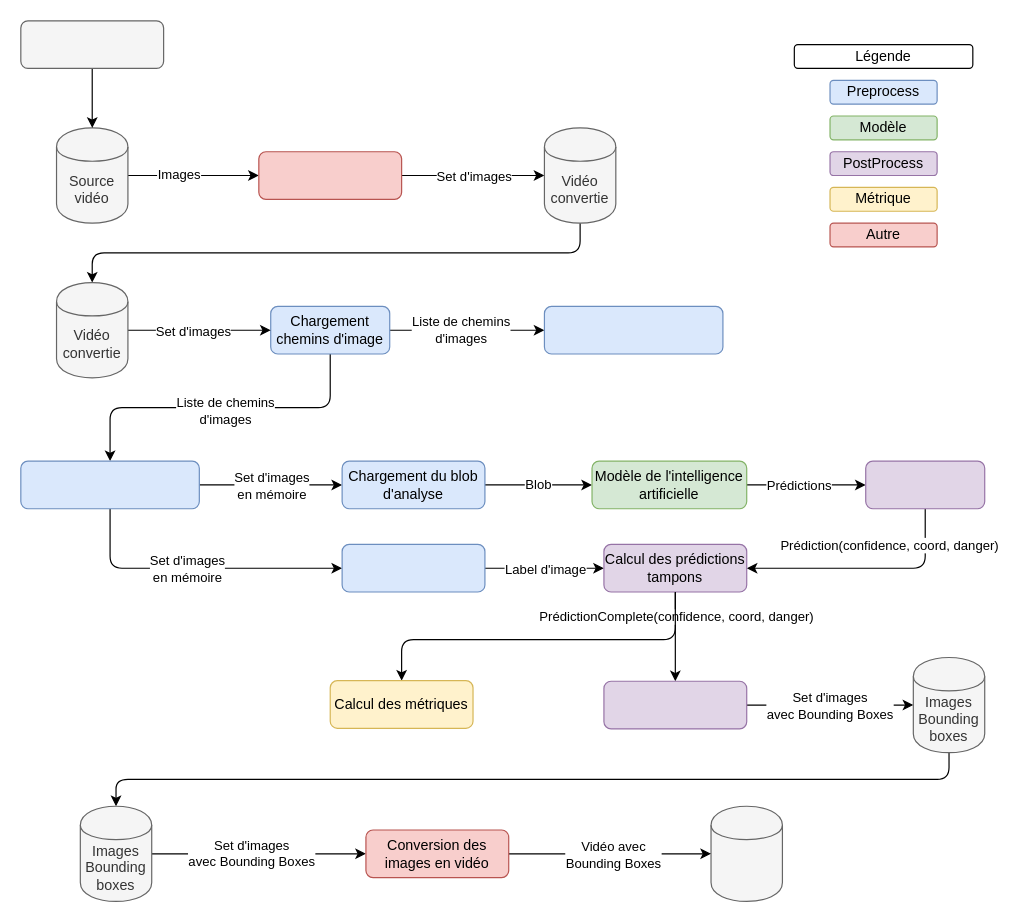
The diagram is 1020 pixels wide and 922 high, and some of its shapes have lost their labels. The centre of each missing label's shape, as x and y in pixels:
Chargement d'un batch d'images en mémoire: (x=109, y=484)
Chargement du modèle: (x=92, y=44)
Conversion de la vidéo en images: (x=330, y=175)
Dessin des boundins boxes: (x=675, y=704)
Extractions de propriétés d'une image de référence: (x=633, y=329)
Identifiation des images tampons: (x=413, y=567)
Traitement des prédictions: (x=925, y=484)
Vidéo Bounding Boxes: (x=746, y=853)
